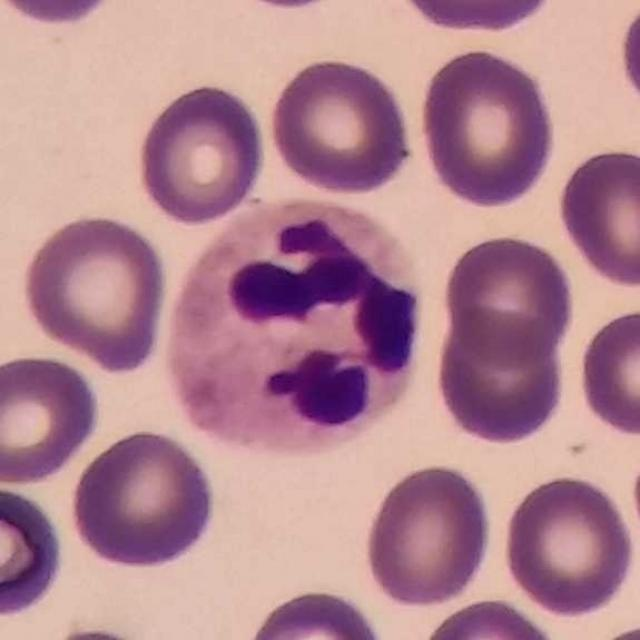Neutrophil: (153, 193, 440, 465)
RBC: (17, 208, 174, 376), (414, 42, 561, 213), (66, 424, 222, 573), (264, 52, 418, 198), (499, 470, 639, 619), (132, 78, 270, 227), (361, 460, 495, 610), (438, 230, 578, 366), (431, 313, 570, 447), (0, 349, 104, 488), (553, 142, 640, 292), (0, 478, 70, 624), (574, 302, 640, 440), (237, 583, 389, 640), (415, 594, 563, 640), (391, 0, 560, 37), (0, 0, 125, 29), (613, 0, 639, 122), (253, 0, 345, 17), (602, 616, 640, 639)
